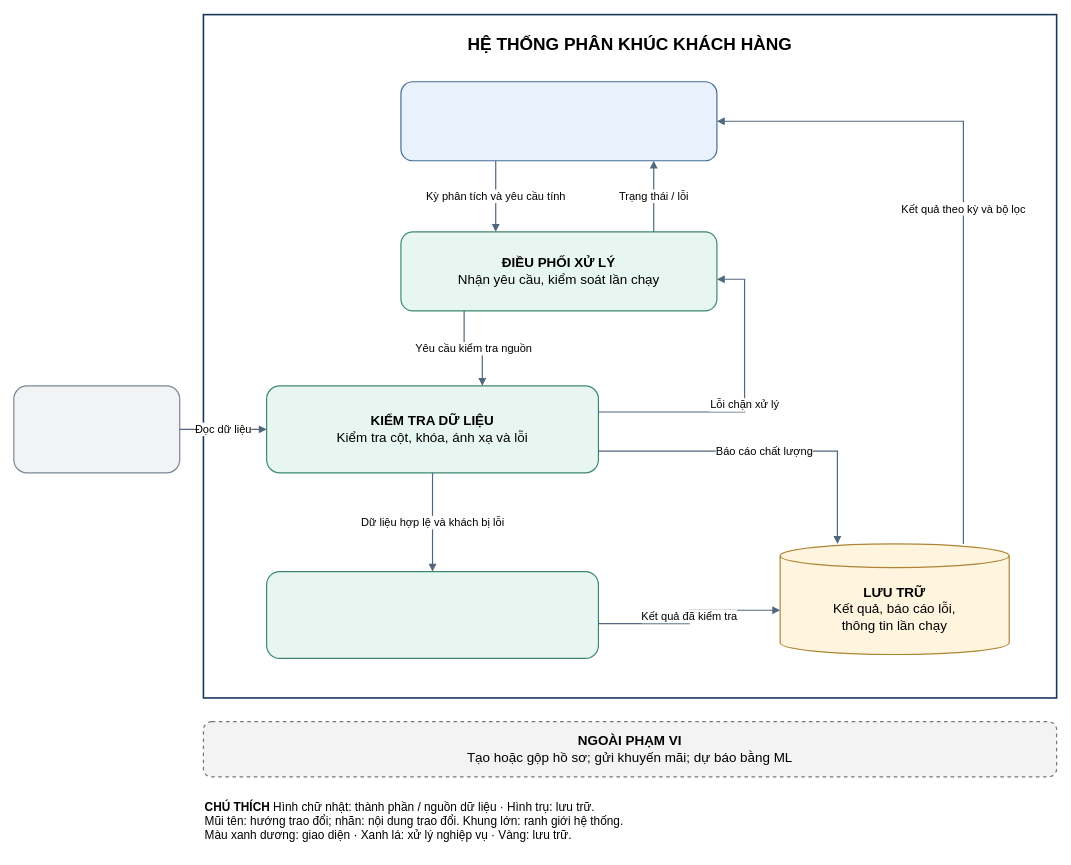
The diagram is 1071 pixels wide and 865 high, and some of its shapes have lost their labels. The shapes that lost their labels are listed below. From the top down, each one's centre as x and y in pixels, then its label:
At pixel 558 121: "GIAO DIỆN Chọn kỳ, lọc, xem và xuất kết quả".
At pixel 96 429: "NGUỒN CSV Khách hàng và đơn hàng".
At pixel 432 615: "TÍNH CHỈ SỐ VÀ PHÂN KHÚC Tổng hợp đơn, áp dụng QT-12".
